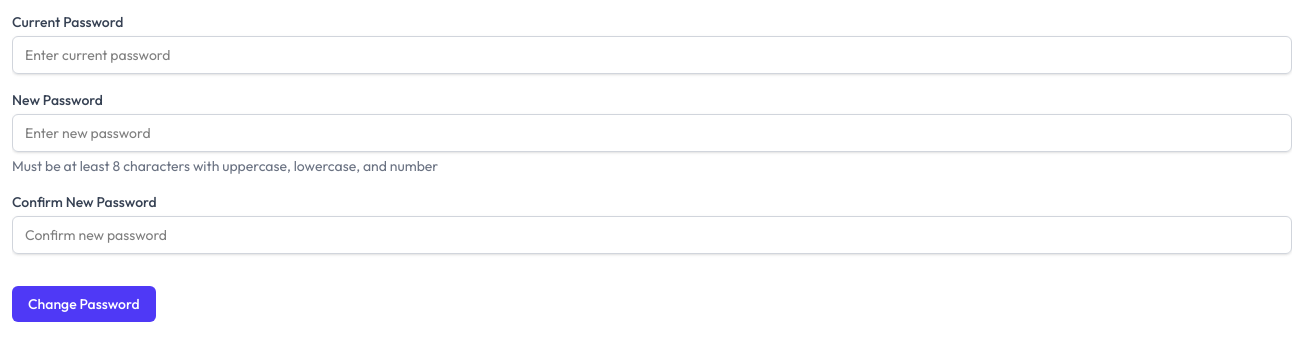
Test: ChangePasswordForm › validates password confirmation
Type "OldPassword123" into the password field labelled "Current Password" at (652, 55), box top-left (12, 36), bottom-right (1292, 74)
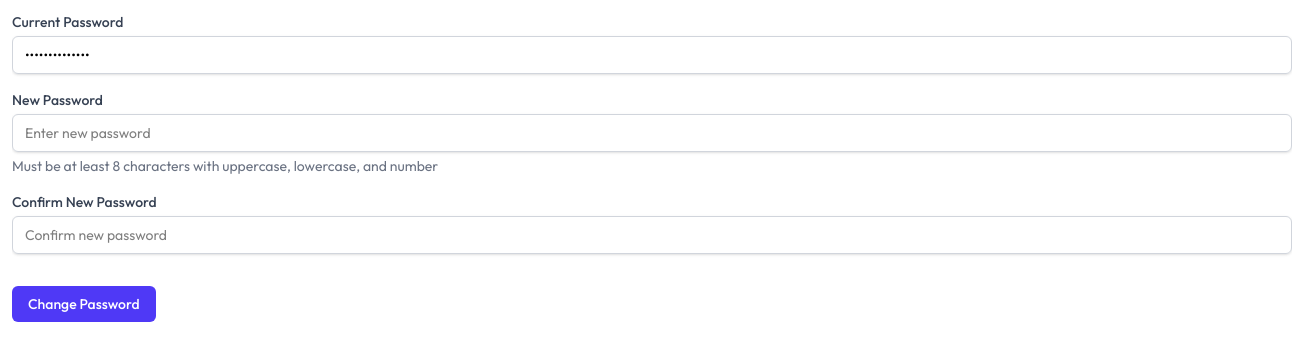
Type "NewPassword123" into the password field labelled "New Password" at (652, 133), box top-left (12, 114), bottom-right (1292, 152)
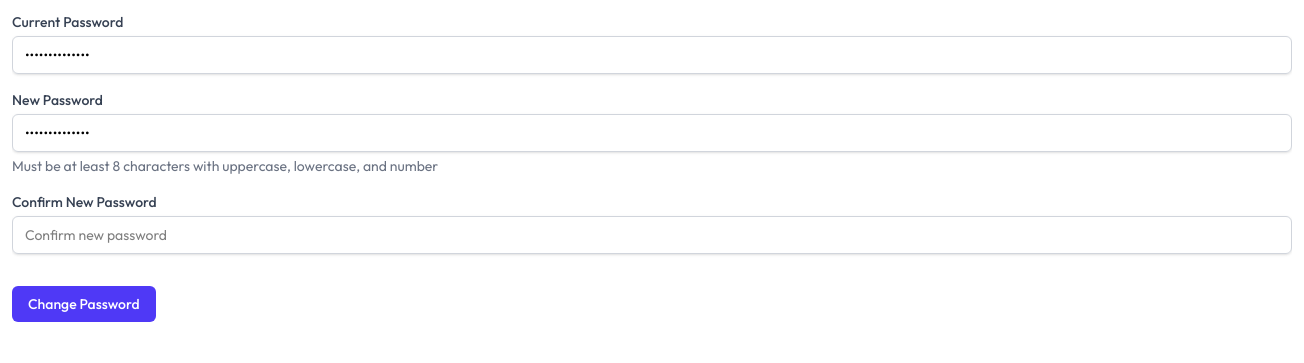
Type "DifferentPassword123" into the password field labelled "Confirm New Password" at (652, 235), box top-left (12, 216), bottom-right (1292, 254)
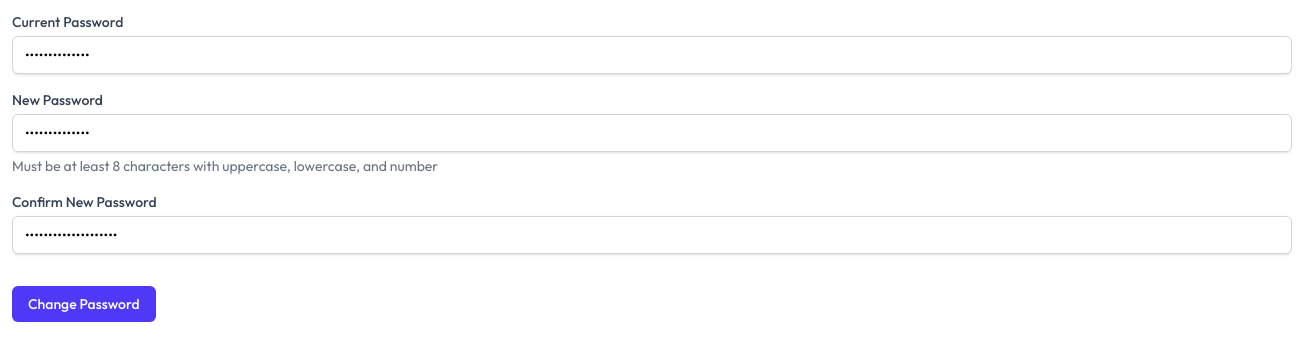
Click the button "Change Password" at (84, 304), box top-left (12, 286), bottom-right (156, 322)
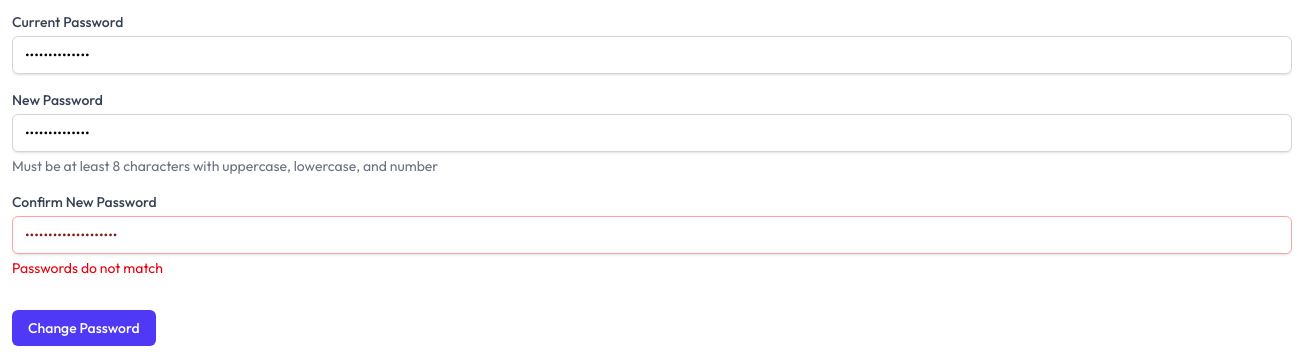
expect the text "Passwords do not match" is shown: met, box top-left (12, 259), bottom-right (163, 277)
